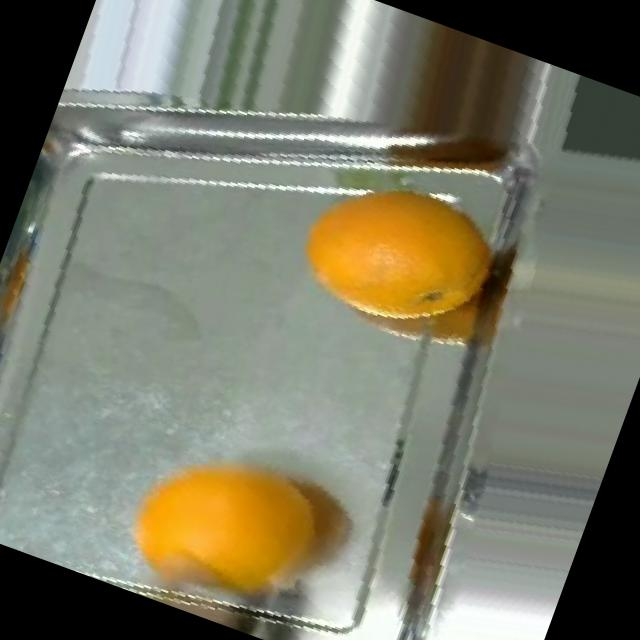Fruit: (258, 126, 532, 376)
